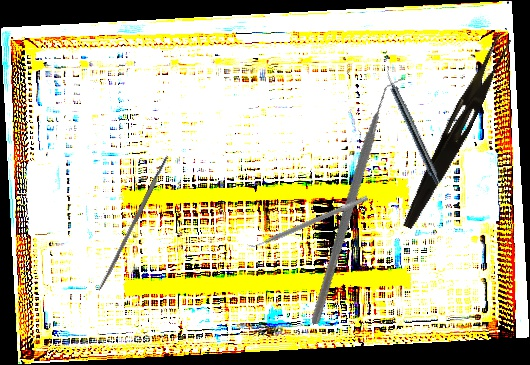Chopper: (257, 77, 462, 325)
Dressing Forceps: (400, 30, 512, 235)
Handpiece: (379, 65, 445, 186)
Scalpel Handle: (96, 153, 172, 293)
Spatula Surgical: (246, 190, 369, 253)
